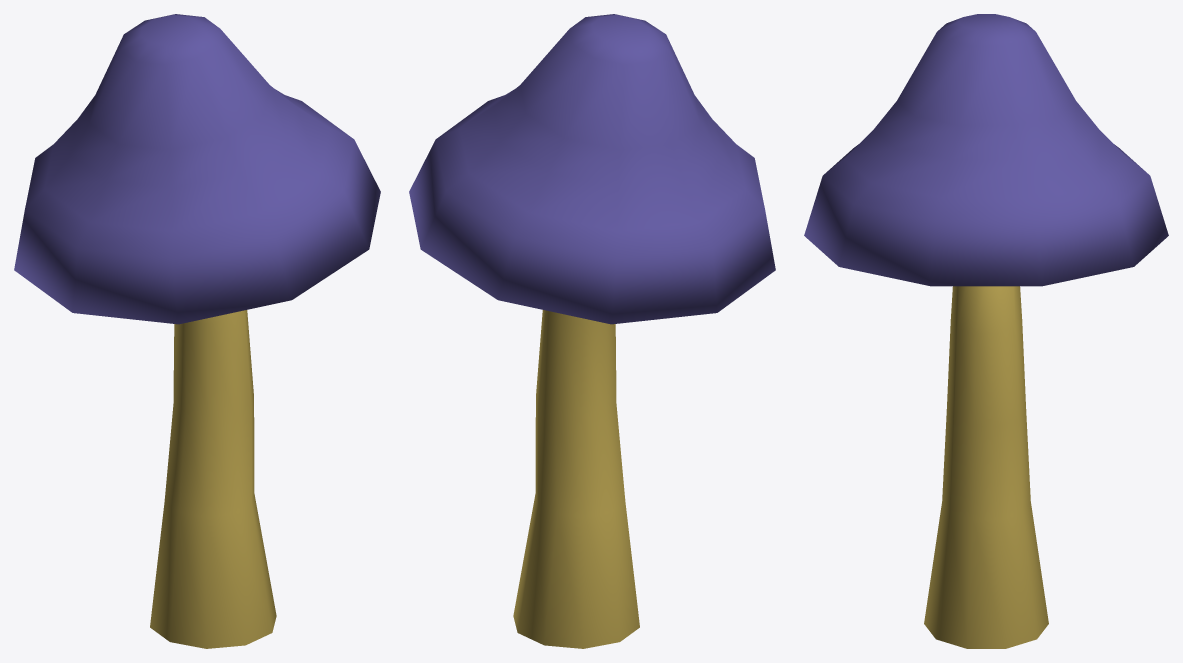
Rendered from Mushroom_Blue_Cone_2.fbx.
3 renders of one model, left to right at view 1: azimuth 30°, elevation 25°; view 2: azimuth 150°, elevation 25°; view 3: azimuth 270°, elevation 25°, orthographic. The views are drawn at different scales.
Parts seen in each view (by area): view 1: Cylinder.537, Cylinder.536; view 2: Cylinder.537, Cylinder.536; view 3: Cylinder.537, Cylinder.536.
Part boxes in pixels (x1,y1,x2,y2): Cylinder.537: (14, 14, 380, 324); Cylinder.536: (150, 310, 276, 648); Cylinder.537: (409, 14, 775, 324); Cylinder.536: (513, 310, 639, 648); Cylinder.537: (804, 14, 1168, 286); Cylinder.536: (924, 286, 1048, 648).
Size of the model in its own units: 71.88 by 135 by 76.34.
